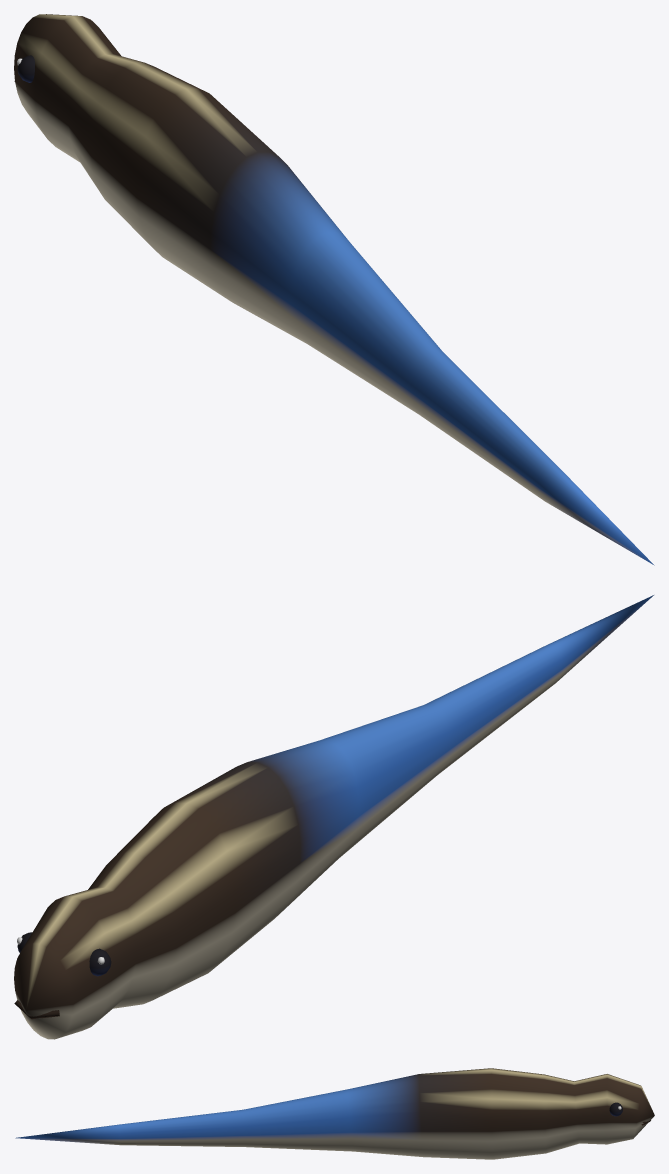
Rendered from Tokage.fbx.
3 views of the same model, one above another, from view 1: azimuth 30°, elevation 25°; view 2: azimuth 150°, elevation 25°; view 3: azimuth 270°, elevation 25° (orthographic). The views are drawn at different scales.
Parts seen in each view (by area): view 1: Tokage; view 2: Tokage; view 3: Tokage.
Boxes of the visible parts, box(x1,y1,x2,y2) form: Tokage: box(14, 14, 654, 565); Tokage: box(14, 595, 653, 1039); Tokage: box(15, 1068, 654, 1159).
Size of the model in its own units: 0.3276 by 0.5499 by 3.62.
